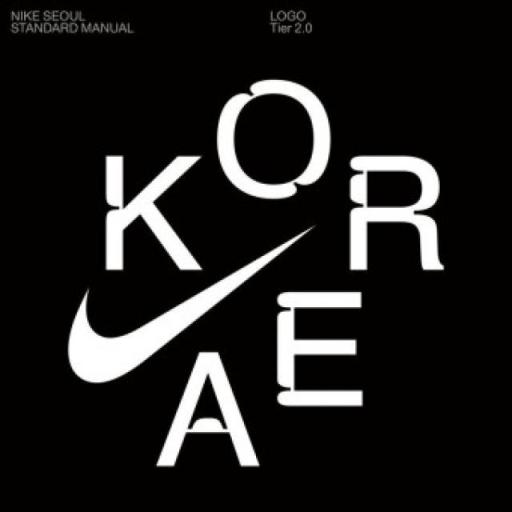Nike: (59, 217, 318, 390)
